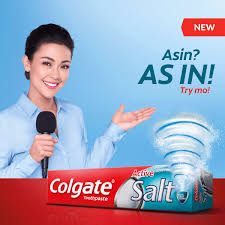colgate-small: (45, 168, 214, 212)
